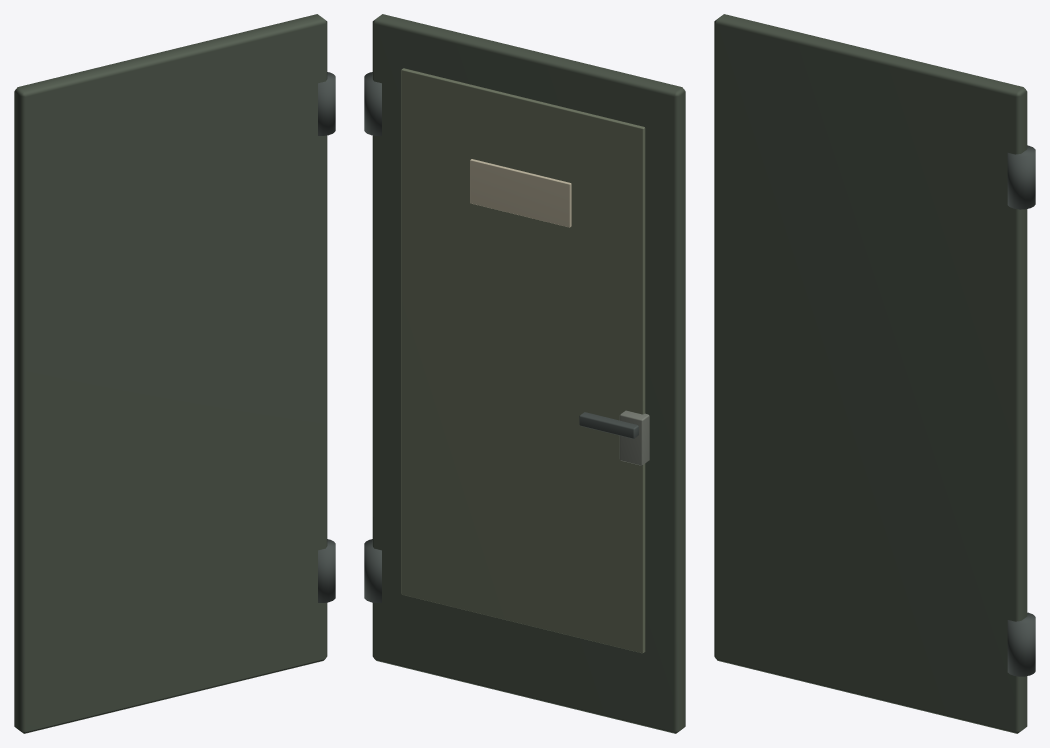
The model's file is StorageDoorLeaf62.fbx.
3 views of the same model, side by side, from view 1: azimuth 30°, elevation 25°; view 2: azimuth 150°, elevation 25°; view 3: azimuth 330°, elevation 25° (orthographic).
Parts seen in each view (by area): view 1: StorageDoorLeaf62; view 2: StorageDoorLeaf62; view 3: StorageDoorLeaf62.
Part boxes in pixels (x1=…): StorageDoorLeaf62: x1=14, y1=14, x2=335, y2=733; StorageDoorLeaf62: x1=364, y1=14, x2=685, y2=733; StorageDoorLeaf62: x1=714, y1=14, x2=1035, y2=733.
Bounding box in the file's own units: 114 × 220 × 15.45.
